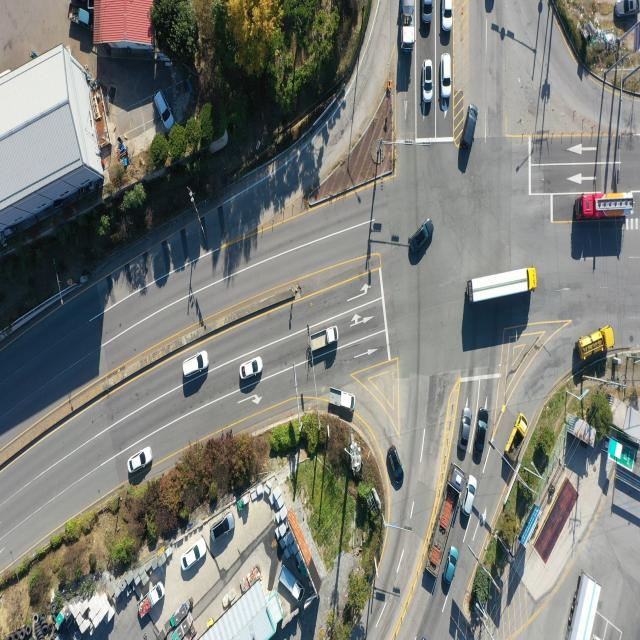car: (409, 218, 433, 254), (182, 540, 207, 574), (461, 104, 478, 150), (154, 92, 172, 133), (473, 413, 487, 465), (183, 351, 210, 377), (462, 475, 478, 518), (129, 447, 152, 474), (212, 513, 234, 541), (386, 446, 402, 482), (442, 54, 454, 99), (459, 408, 471, 452), (445, 546, 459, 583), (422, 61, 434, 104), (240, 357, 262, 380), (615, 0, 640, 18), (443, 0, 455, 31), (422, 0, 434, 23)
medium_truck: (426, 462, 464, 582), (468, 268, 535, 304), (565, 574, 601, 640), (578, 194, 636, 222), (578, 326, 614, 365), (403, 0, 419, 47)
small_truck: (503, 413, 529, 464), (279, 564, 306, 604), (140, 582, 166, 616), (308, 325, 338, 353), (328, 386, 355, 412), (68, 3, 92, 26)
